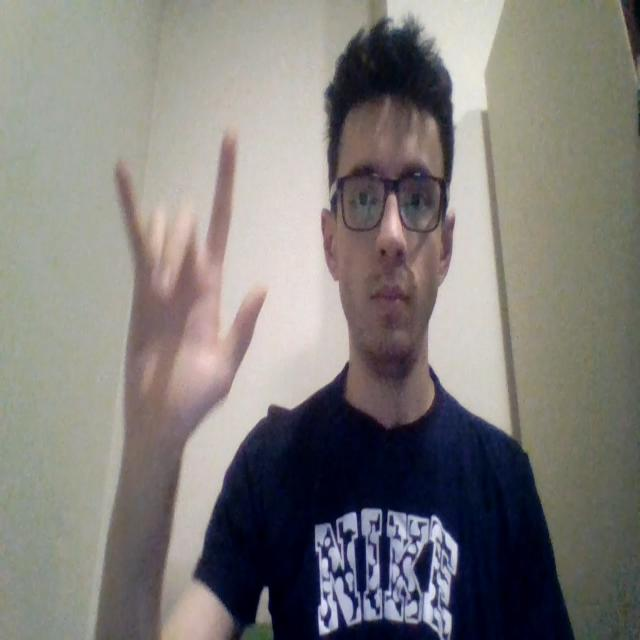iloveyou: (112, 125, 268, 448)
